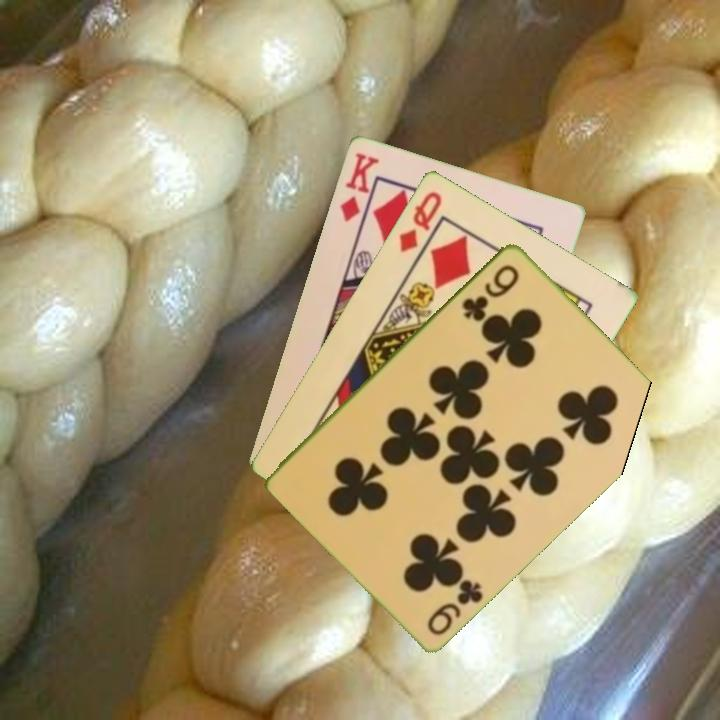9c: (458, 260, 522, 323), (423, 575, 486, 638)
Kd: (336, 148, 382, 232)
Qd: (395, 187, 445, 255)
